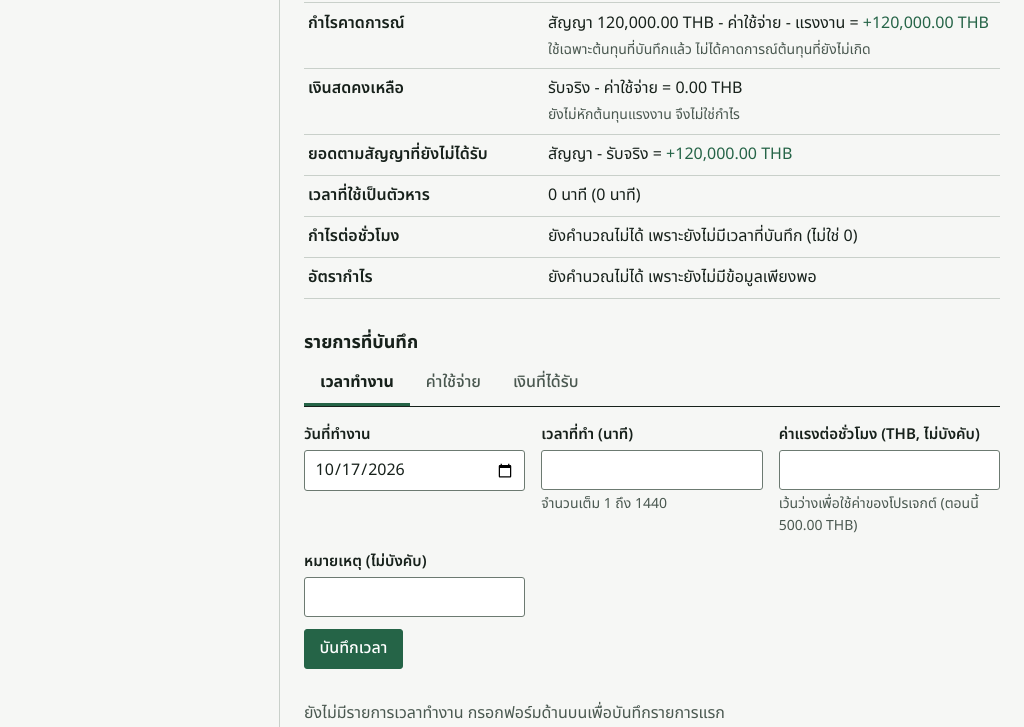
Test: ProfitApp › shows retained figures as STALE when a write succeeds but the project reload fails; retry repeats GET only
(page scrolled)
Click the tab "เงินที่ได้รับ" at (546, 384), box 497,362 -> 595,406
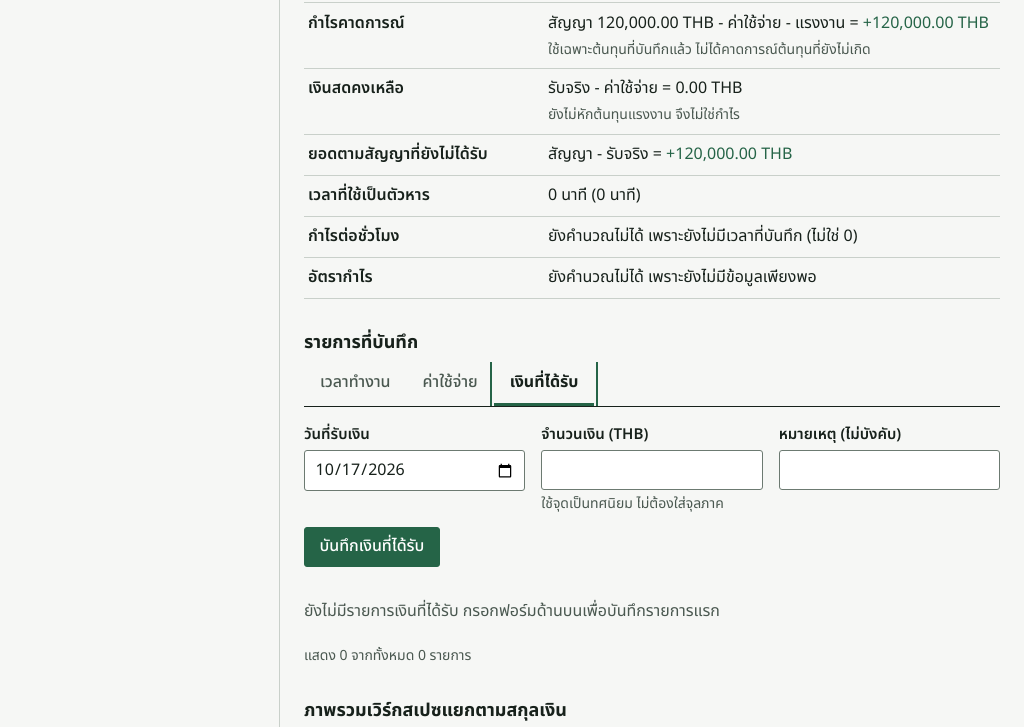
Type "100" into the field labelled "จำนวนเงิน (THB)" at (652, 470), box 541,450 -> 763,490
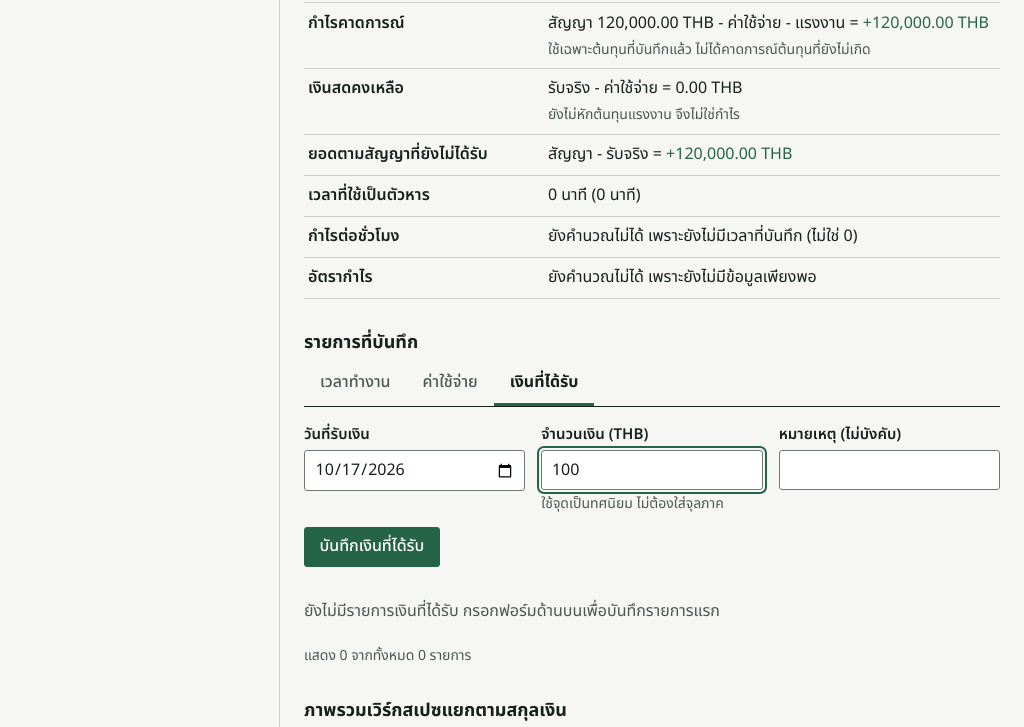
Click the button "บันทึกเงินที่ได้รับ" at (372, 547), box 304,527 -> 440,567
(page scrolled)
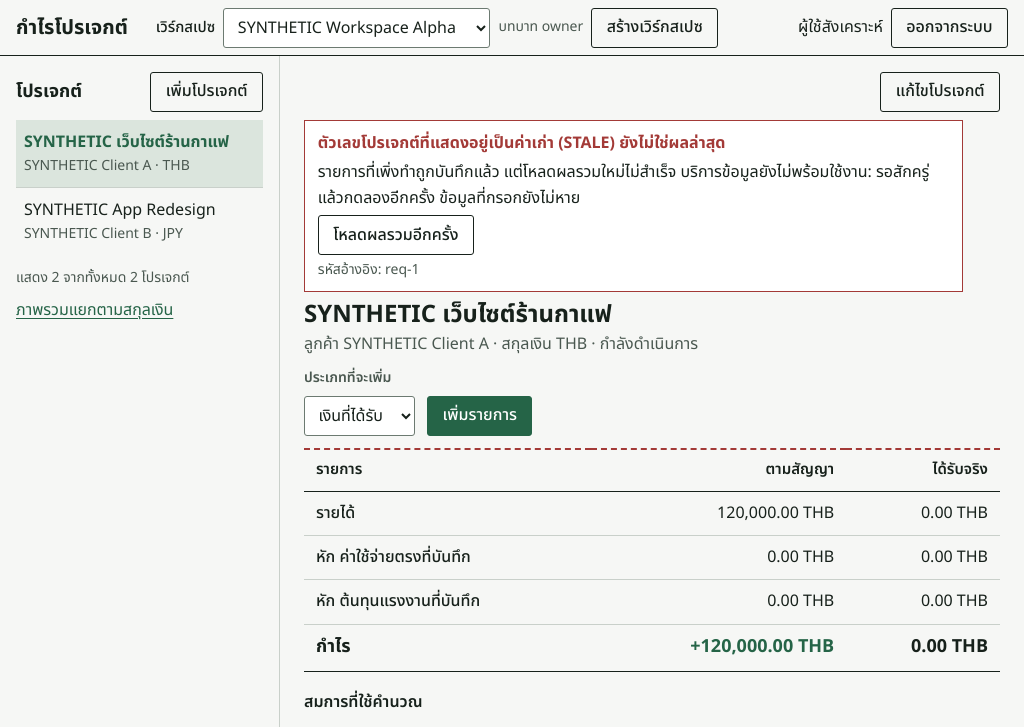
Expected: the text "โหลดผลรวมล่าสุดสำเร็จ" is not shown
Now the text "ค่าเก่า (STALE)" is shown, box 420,131 -> 725,155
Now the text "ถูกบันทึกแล้ว แต่โหลดผลรวมใหม่ไม่สำเร็จ" is shown, box 318,160 -> 680,184
Click the button "โหลดผลรวมอีกครั้ง" at (396, 235), box 318,215 -> 474,255
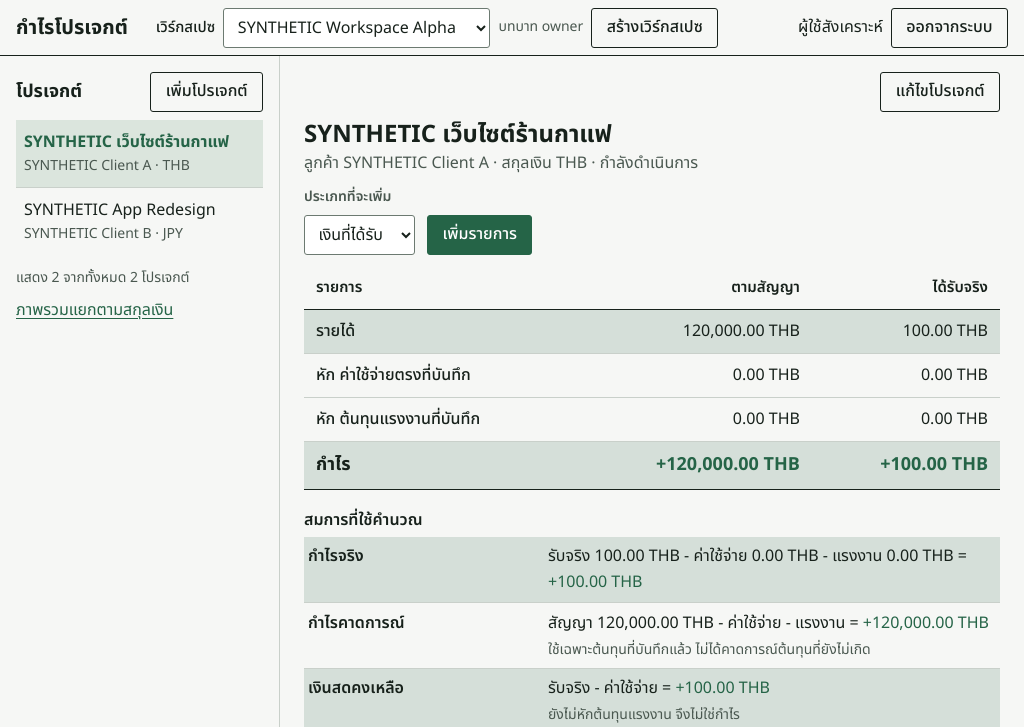
Now the text "ค่าเก่า (STALE)" is gone
